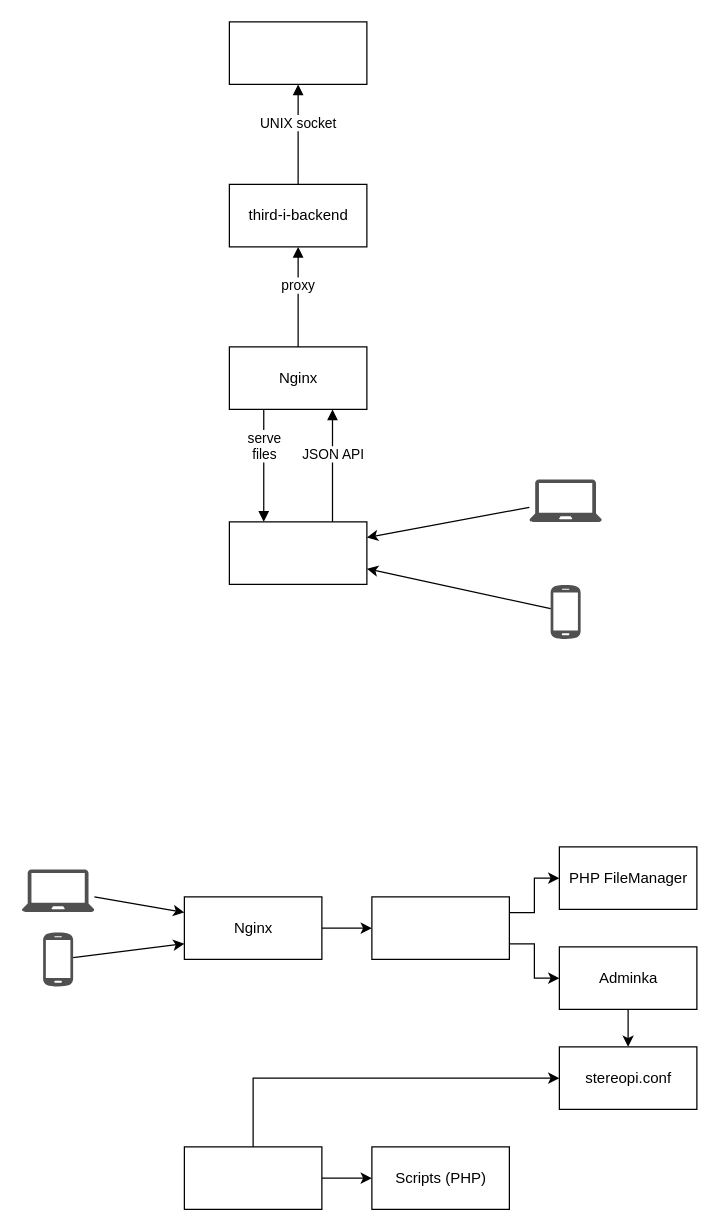
Image size: 719x1231. Some labels were removed from this diagram. The shapes that lost their labels are listed below. From the top down, each one's centre as x and y in pixels, then its label:
At point 297,52: "captive-portal".
At point 297,552: "third-i-frontend".
At point 440,927: "FastCGI (PHP)".
At point 252,1177: "Daemons (PHP)".
